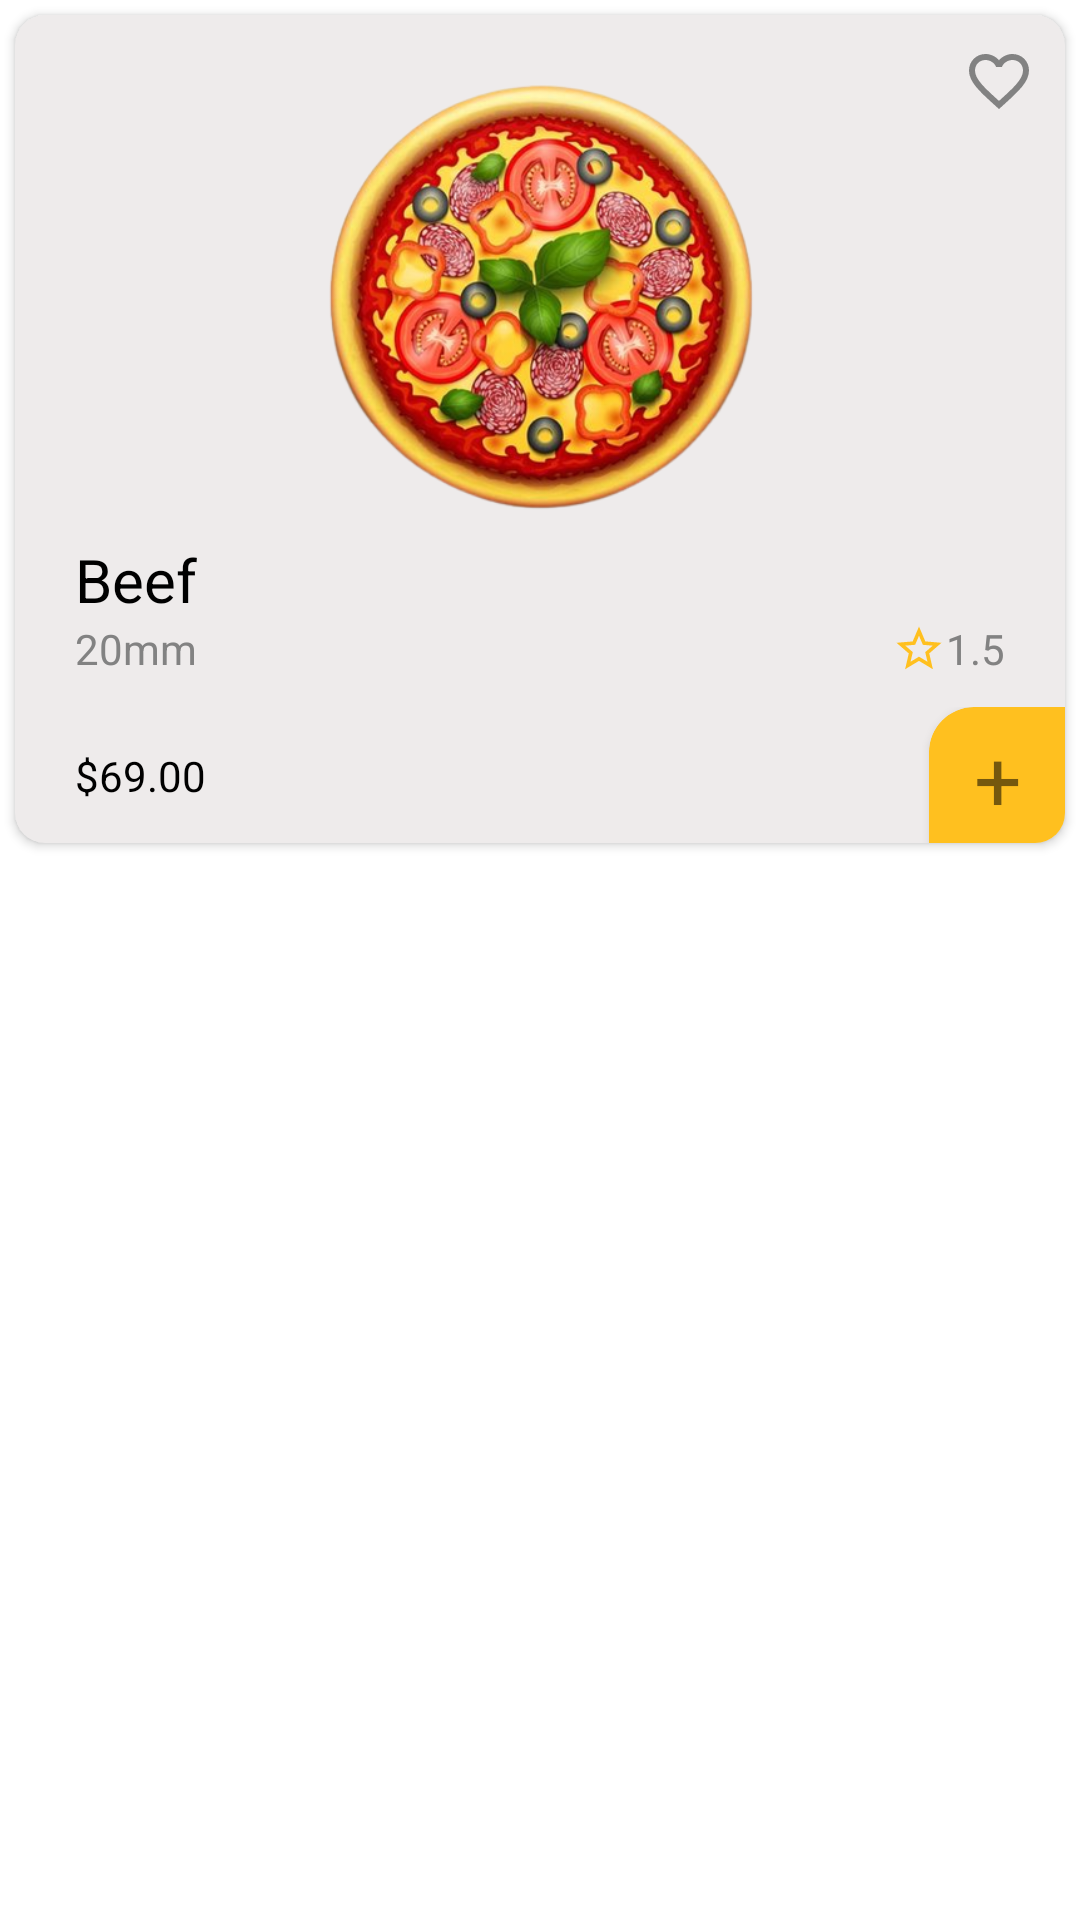

Named icons in this screenshot (1080*1920) and their bounding boxes, (x1, y1, x2, y2):
favorite: (969, 54, 1029, 109)
star: (896, 627, 942, 669)
